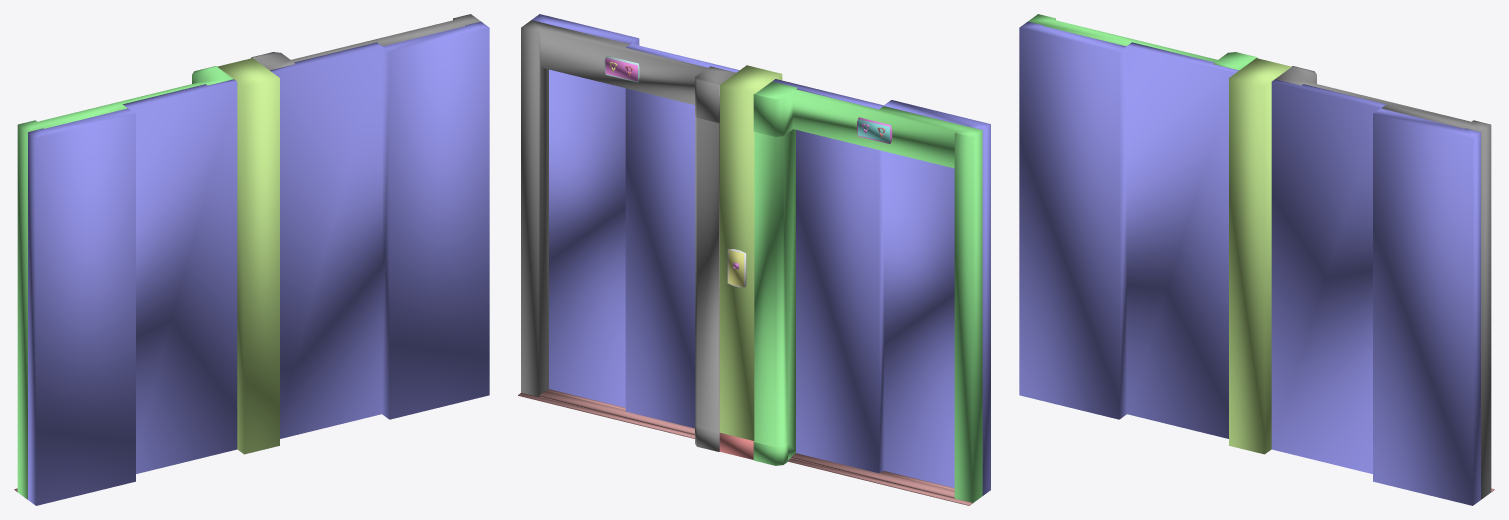
The model's file is elevatorDoors.fbx.
3 renders of one model, left to right at view 1: azimuth 30°, elevation 25°; view 2: azimuth 150°, elevation 25°; view 3: azimuth 330°, elevation 25°, orthographic.
Parts seen in each view (by area): view 1: elevatorDoors; view 2: elevatorDoors; view 3: elevatorDoors.
Part boxes in pixels (x1,y1,x2,y2): elevatorDoors: (14,14,489,505); elevatorDoors: (518,14,990,505); elevatorDoors: (1019,14,1494,505).
Bounding box in the file's own units: 381 × 296 × 43.
